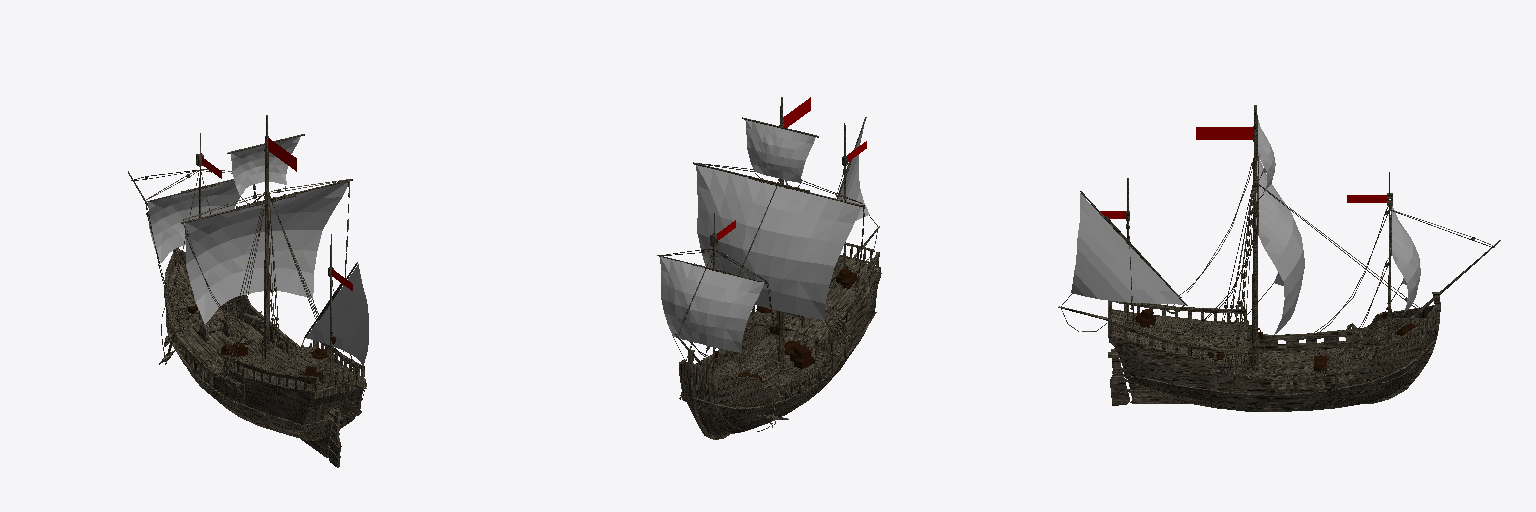
The picture shows the model from 3 angles: view 1: azimuth 30°, elevation 25°; view 2: azimuth 150°, elevation 25°; view 3: azimuth 270°, elevation 25°; orthographic projection.
Visible parts, largest first — view 1: Ship, Sails, SailsBack_Sails.001, Flags, Detail; view 2: Sails, Ship, SailsBack_Sails.001, Detail, Flags; view 3: Ship, Sails, SailsBack_Sails.001, Flags, Detail.
Part boxes in pixels (x1,y1,x2,y2): Ship: (128,115,366,467); Sails: (148,137,368,365); SailsBack_Sails.001: (148,138,368,364); Flags: (202,138,352,290); Detail: (188,306,335,383); Sails: (660,120,869,352); Ship: (657,97,881,439); SailsBack_Sails.001: (660,120,867,351); Detail: (715,268,856,382); Flags: (717,97,866,239); Ship: (1058,105,1500,411); Sails: (1071,120,1420,333); SailsBack_Sails.001: (1071,124,1419,334); Flags: (1099,127,1386,218); Detail: (1136,307,1415,373).
Bounding box in the file's own units: 6.5 × 10.83 × 14.52.
Materials: 4 (1 with a texture image).